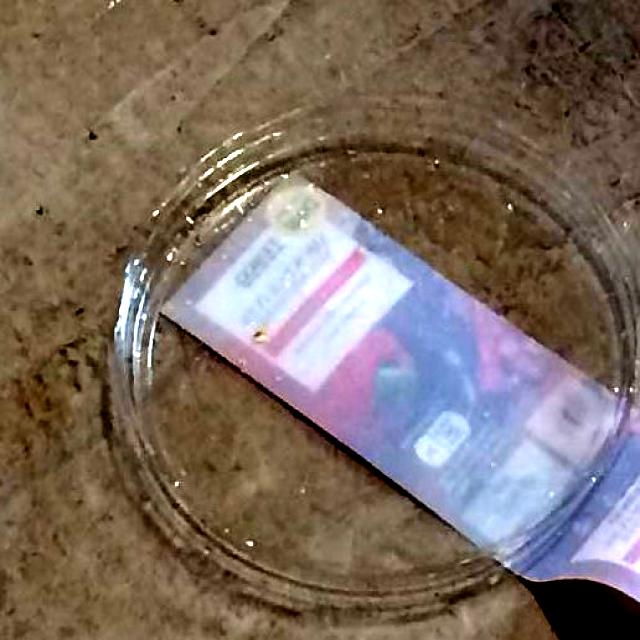Plastic: (97, 87, 640, 626)
